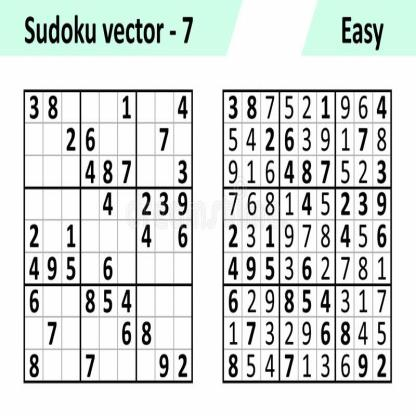sudoku: (221, 86, 394, 386), (22, 86, 194, 386)
